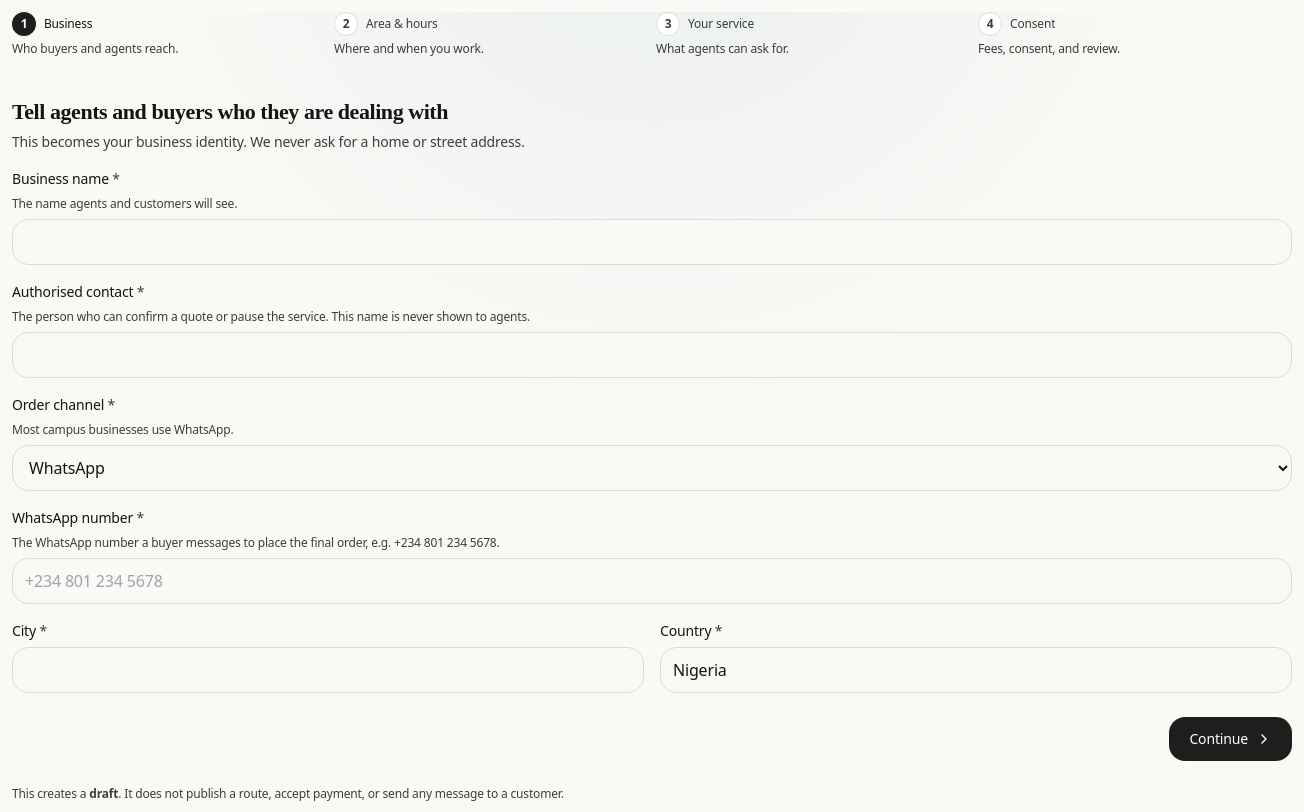
it: OnboardingForm (F-SUP) › does not advance an incomplete step and names the missing field (AC-SUP-001, FR-TASK-003)
The image size is (1304, 812).
Click the button "Continue" at [1231, 739], box [1169, 717, 1292, 761]
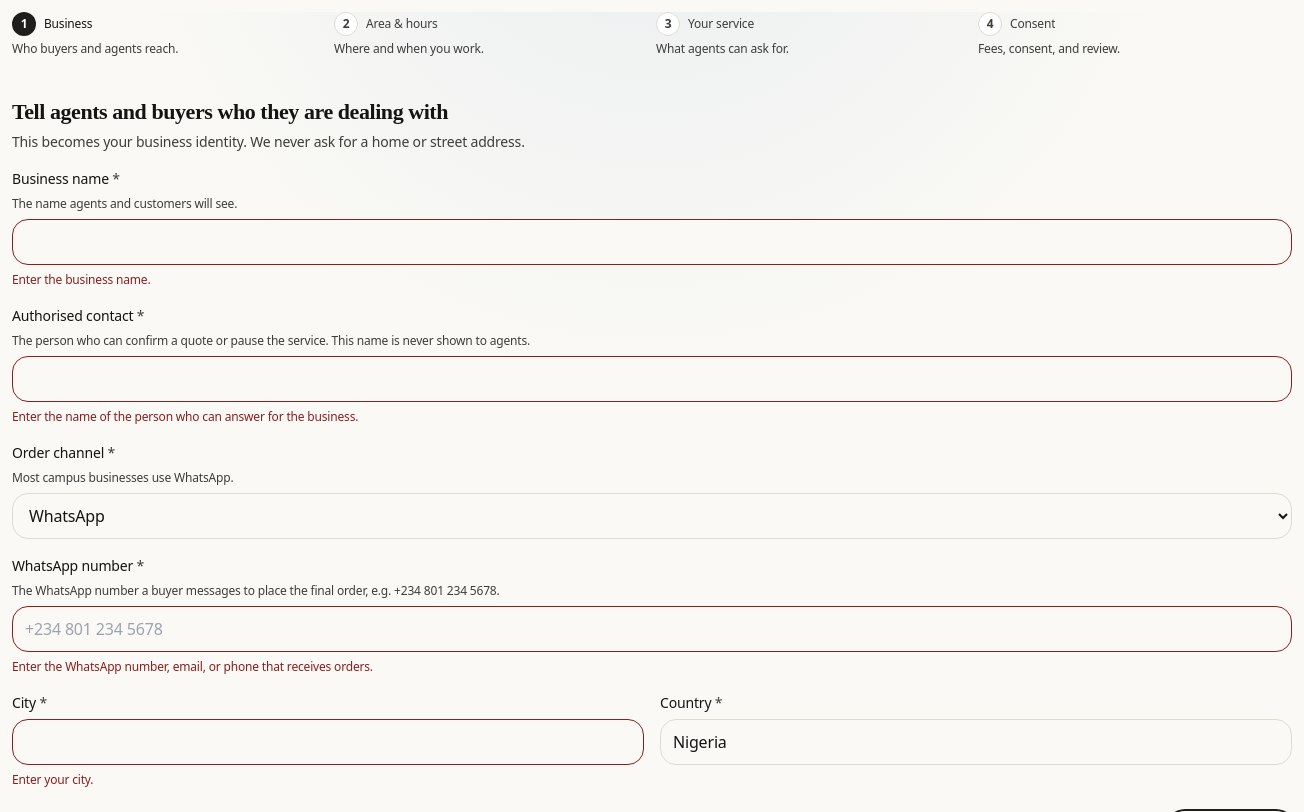
Expected: the field labelled "Business name" is shown, [12, 219, 1292, 265]
Result: the text "Enter the business name." is shown at [12, 271, 150, 288]
